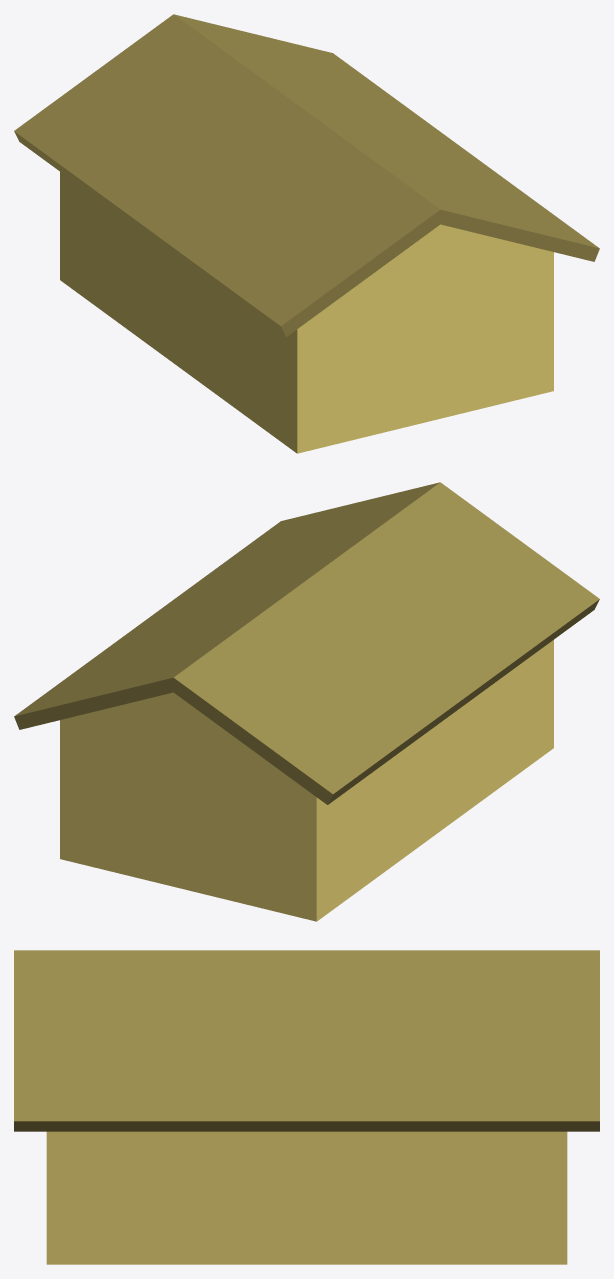
The model's file is result.glb.
3 renders of one model, top to bottom at view 1: azimuth 30°, elevation 25°; view 2: azimuth 150°, elevation 25°; view 3: azimuth 270°, elevation 25°, orthographic. The views are drawn at different scales.
Visible parts, largest first — view 1: 97a41b97-f081-4024-803c-bf634d0f1a03__undefined (×2), d5f6fab6-0862-42aa-b25f-860f6274e6a9__undefined; view 2: 97a41b97-f081-4024-803c-bf634d0f1a03__undefined (×2), d5f6fab6-0862-42aa-b25f-860f6274e6a9__undefined; view 3: 97a41b97-f081-4024-803c-bf634d0f1a03__undefined, d5f6fab6-0862-42aa-b25f-860f6274e6a9__undefined.
Boxes of the visible parts, x1,y1,x2,y2 form: 97a41b97-f081-4024-803c-bf634d0f1a03__undefined (×2): [14, 14, 599, 336]; d5f6fab6-0862-42aa-b25f-860f6274e6a9__undefined: [60, 172, 553, 453]; 97a41b97-f081-4024-803c-bf634d0f1a03__undefined (×2): [14, 482, 599, 804]; d5f6fab6-0862-42aa-b25f-860f6274e6a9__undefined: [60, 640, 553, 921]; 97a41b97-f081-4024-803c-bf634d0f1a03__undefined: [14, 950, 599, 1131]; d5f6fab6-0862-42aa-b25f-860f6274e6a9__undefined: [46, 1131, 567, 1264].
Size of the model in its own units: 621 by 416 by 900.
